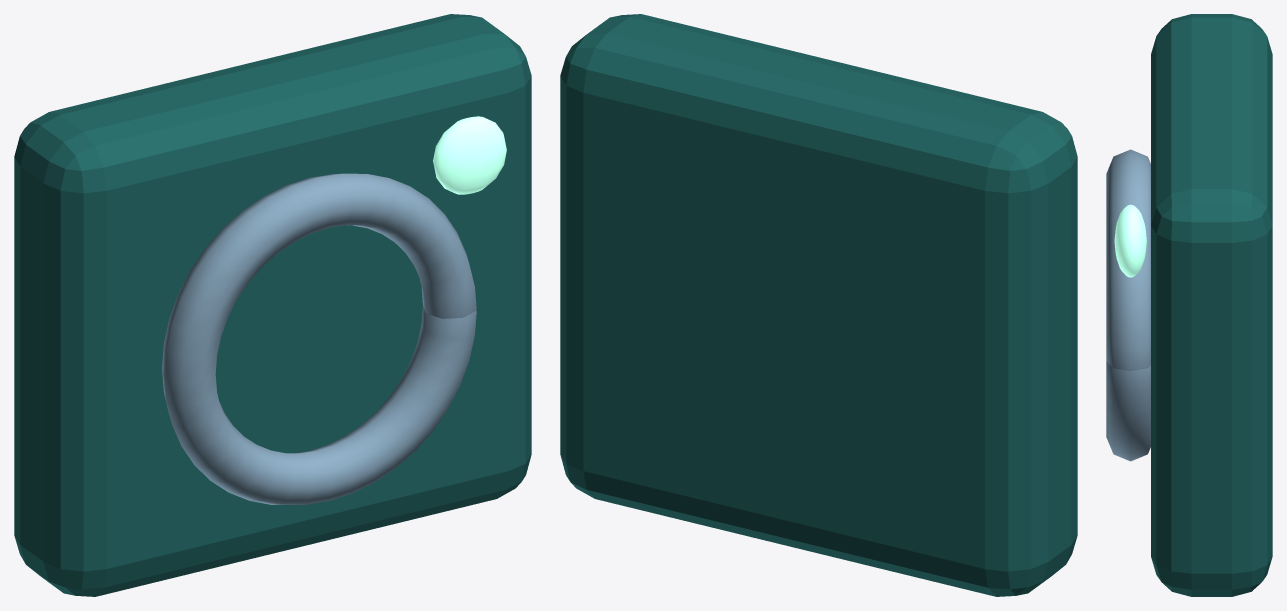
Rendered from cabinet_lock.glb.
The picture shows the model from 3 angles, left to right: view 1: azimuth 30°, elevation 25°; view 2: azimuth 150°, elevation 25°; view 3: azimuth 270°, elevation 25°; orthographic projection. The views are drawn at different scales.
Visible parts, largest first — view 1: Reinforced_lock, Dial, LED; view 2: Reinforced_lock; view 3: Reinforced_lock, Dial, LED.
Boxes of the visible parts, box(x1,y1,x2,y2) form: Reinforced_lock: box(14, 14, 531, 596); Dial: box(162, 173, 476, 504); LED: box(433, 116, 506, 194); Reinforced_lock: box(560, 14, 1077, 596); Reinforced_lock: box(1151, 14, 1272, 596); Dial: box(1106, 149, 1150, 461); LED: box(1114, 204, 1146, 277).
Size of the model in its own units: 0.24 by 0.22 by 0.082.
